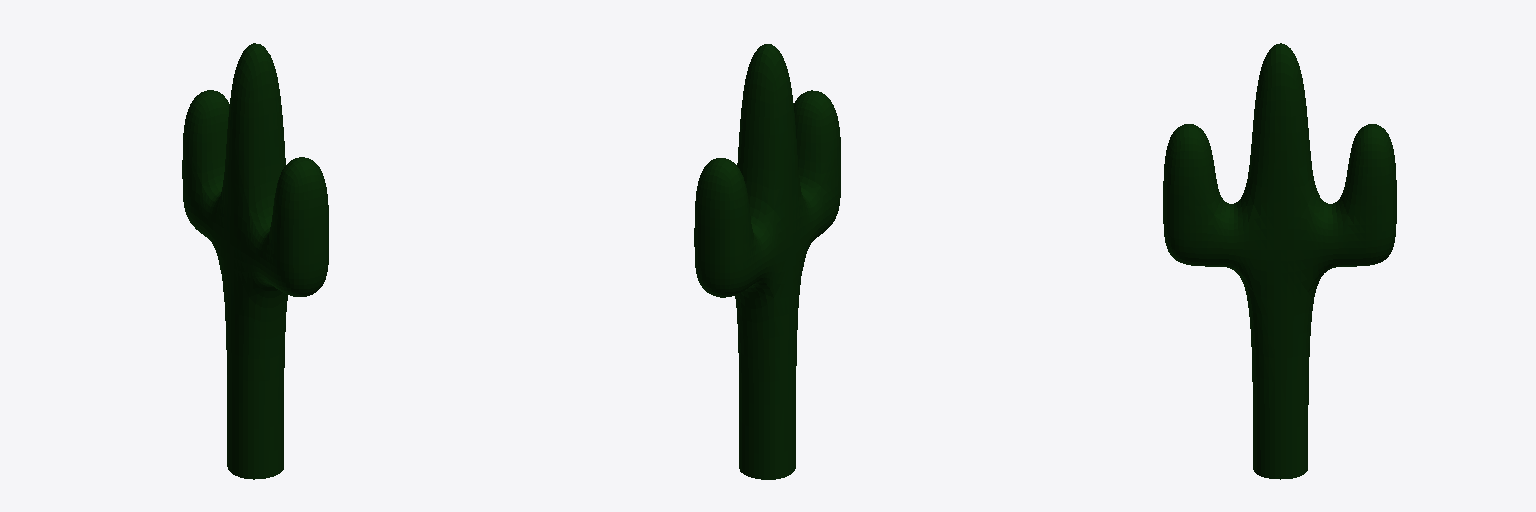
Rendered from Cactus.obj.
The picture shows the model from 3 angles: view 1: azimuth 30°, elevation 25°; view 2: azimuth 150°, elevation 25°; view 3: azimuth 270°, elevation 25°; orthographic projection.
Parts seen in each view (by area): view 1: Cube_Cube.002; view 2: Cube_Cube.002; view 3: Cube_Cube.002.
Boxes of the visible parts, <box> form: Cube_Cube.002: <box>182,43,328,479</box>; Cube_Cube.002: <box>694,44,840,479</box>; Cube_Cube.002: <box>1163,43,1396,479</box>.
Bounding box in the file's own units: 1.65 × 13.02 × 6.5.